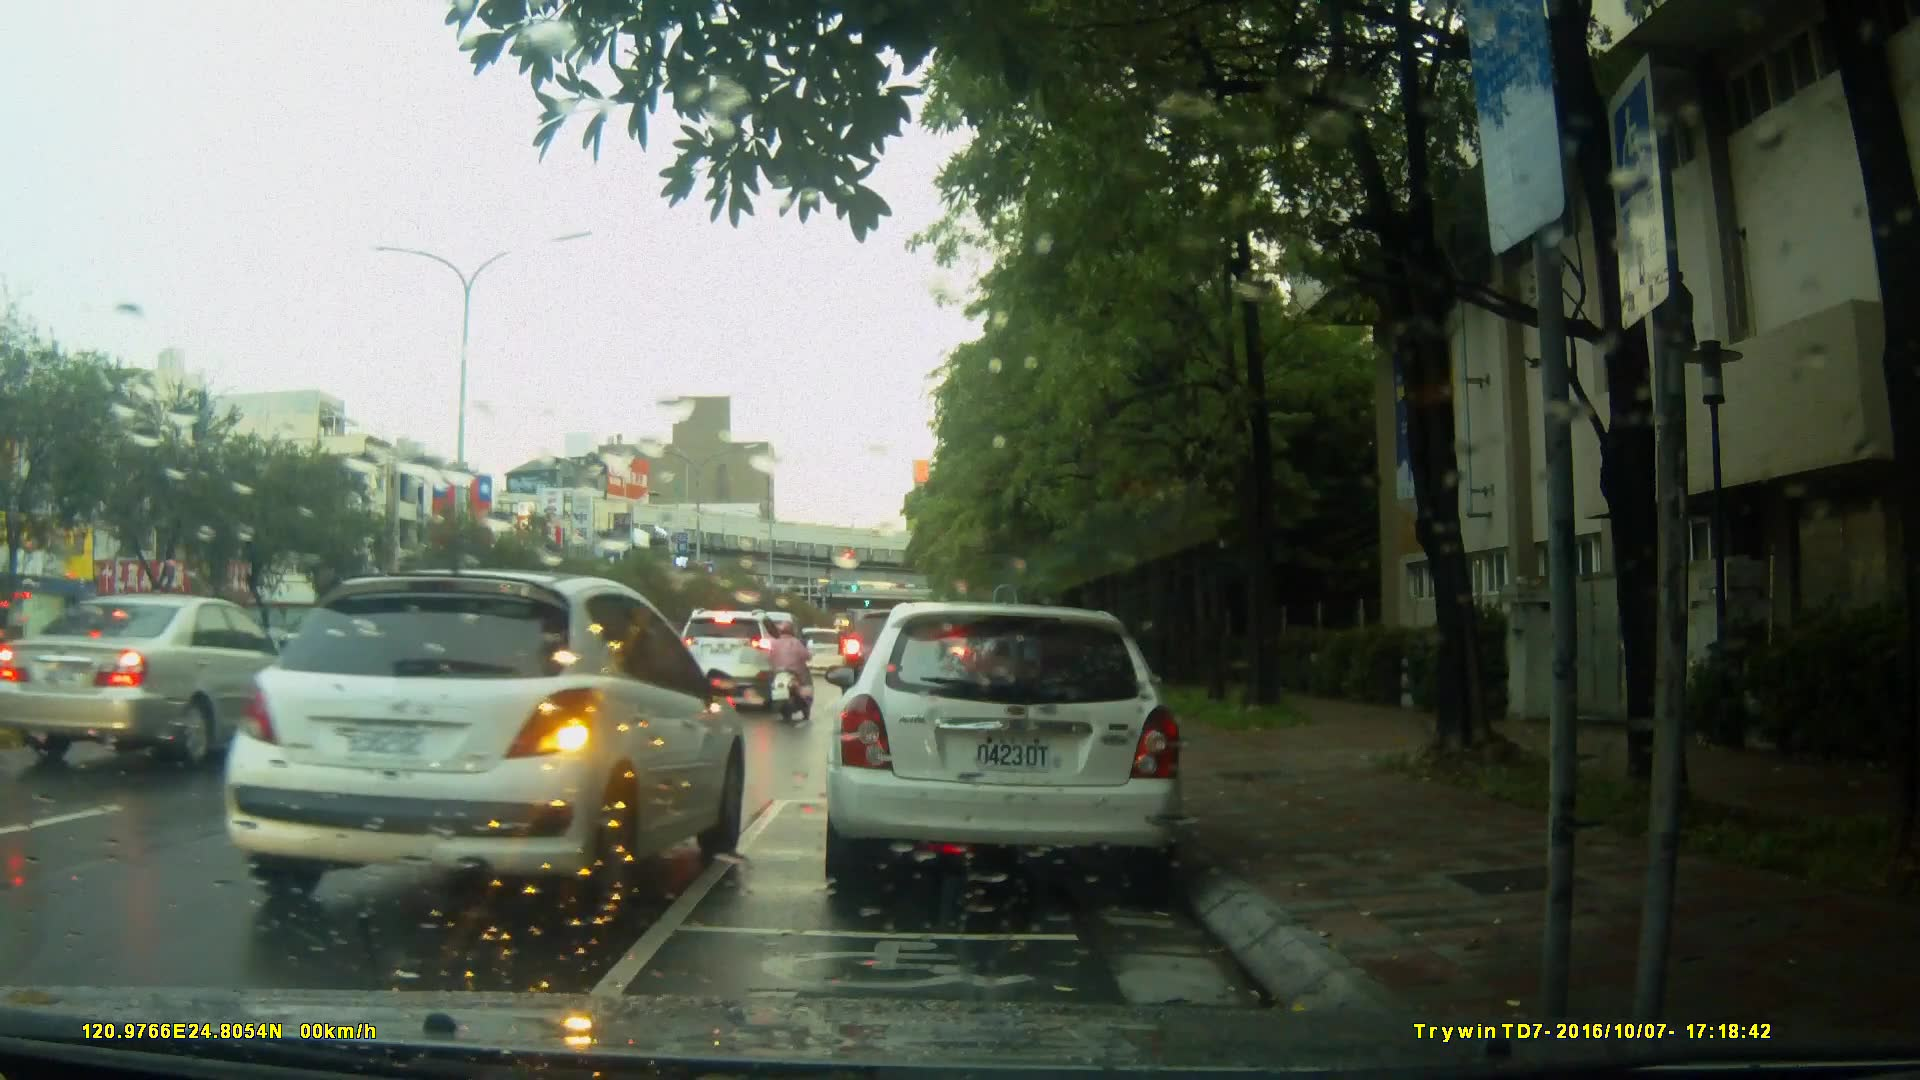rider: (762, 613, 808, 726)
vehicle: (217, 566, 750, 921), (820, 602, 1188, 898), (8, 592, 344, 773), (673, 609, 792, 710)
